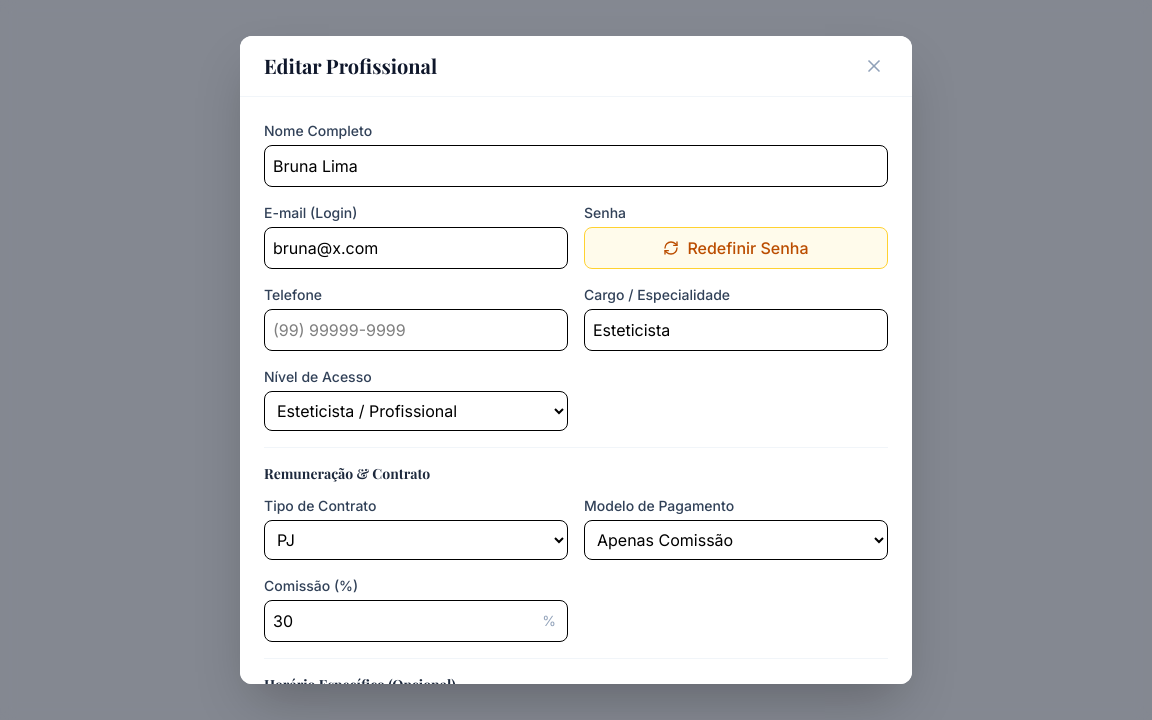
ProfessionalModal › handleResetPassword: sucesso mostra a senha gerada na tela
Click the button "Redefinir Senha": (736, 248) [584,227,888,269]
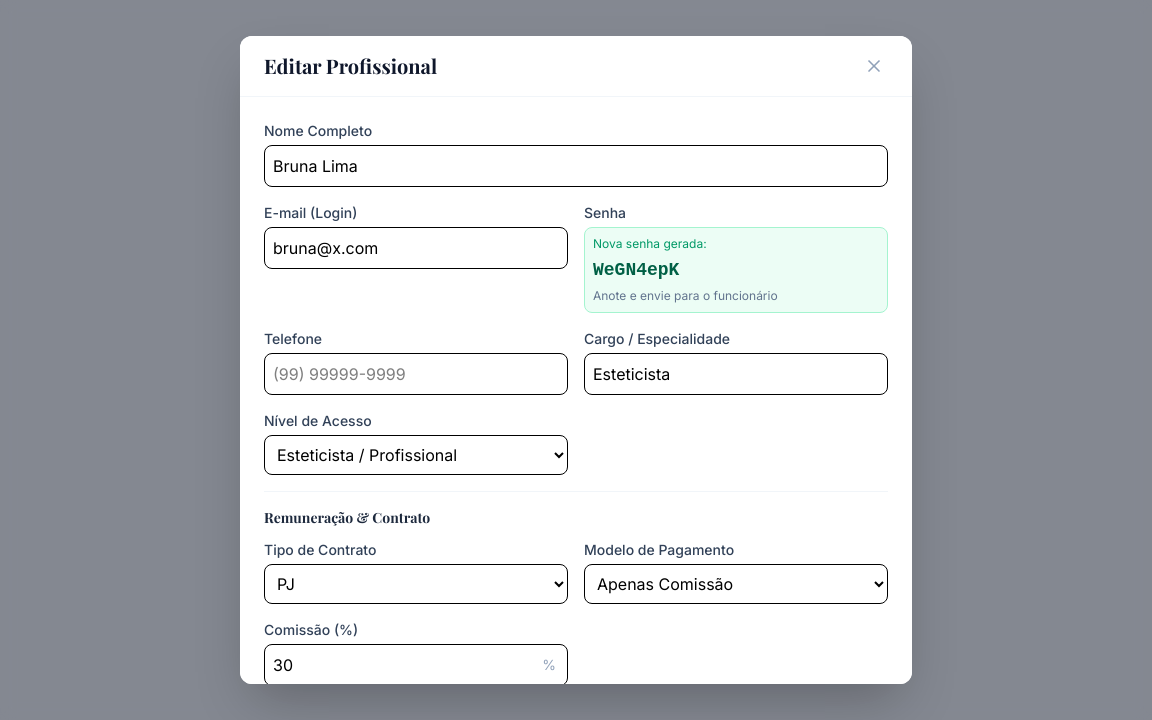
Expected: the text "Nova senha gerada:" is shown, [593,236,707,251]
